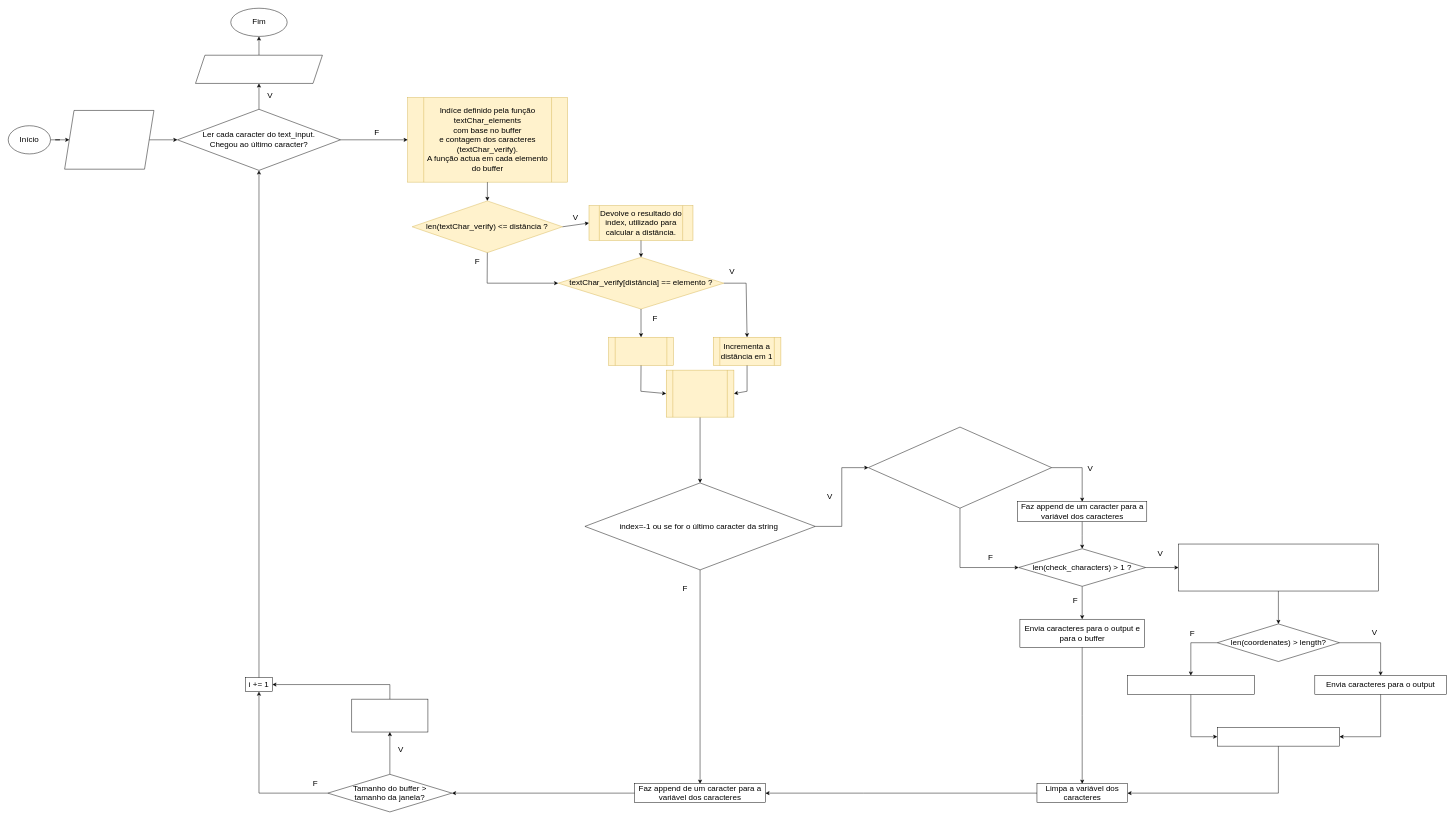
This 1455x820 diagram has some shape labels left out. The shapes that lost their labels are listed below. From the top down, each one's box as (x1, y1, x2, y2) in pixels, then its label:
(195, 55, 322, 83): Faz join do output e devolve-o
(64, 110, 154, 169): Inputs: - texto a comprimir (text_input) - tamanho da janela (window)
(608, 337, 673, 365): Distância passa a zero
(666, 370, 734, 417): Index = -1, quando encontra um caracter diferente.
(868, 427, 1052, 508): É o último caracter da string e index != -1
(1178, 544, 1378, 591): Calcula a distance com base no index e a lenght. Produz coordenadas.
(1127, 675, 1254, 694): Envia coordenadas para o output
(351, 699, 428, 732): Buffer é desviado para a esquerda (popleft)
(1217, 727, 1340, 746): Envia caracteres para o buffer
